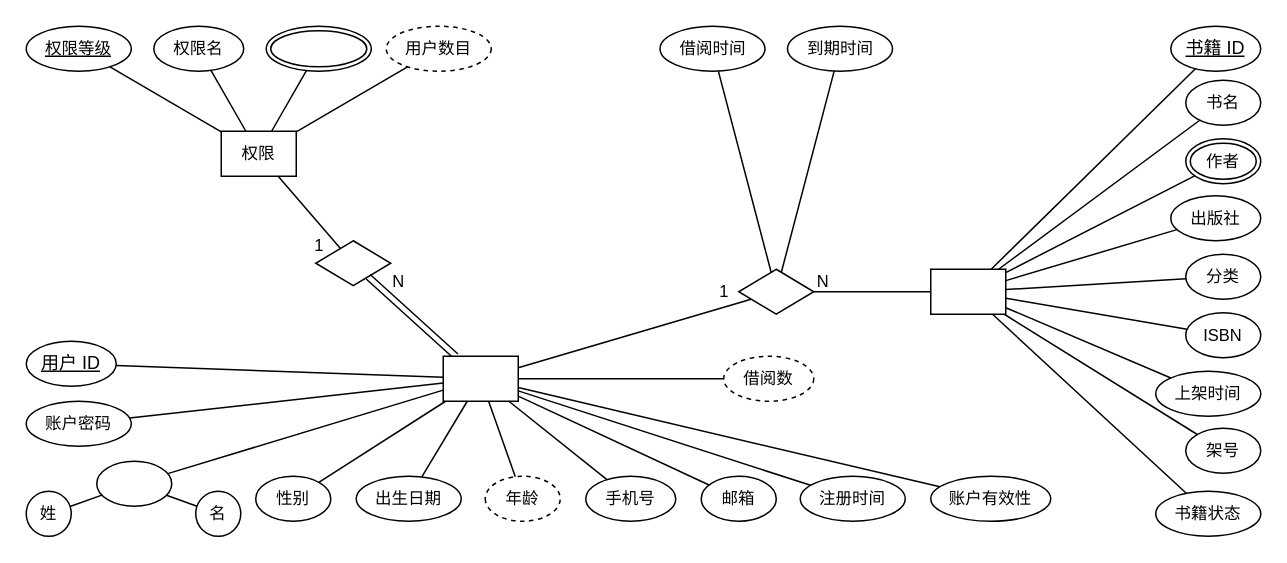
This 1287x563 diagram has some shape labels left out. The centre of each missing label's shape, as x and y in pixels:
书籍: (x=967, y=291)
借阅: (x=775, y=291)
具有: (x=352, y=262)
姓名: (x=133, y=483)
用户: (x=480, y=378)
用户列表: (x=318, y=48)
